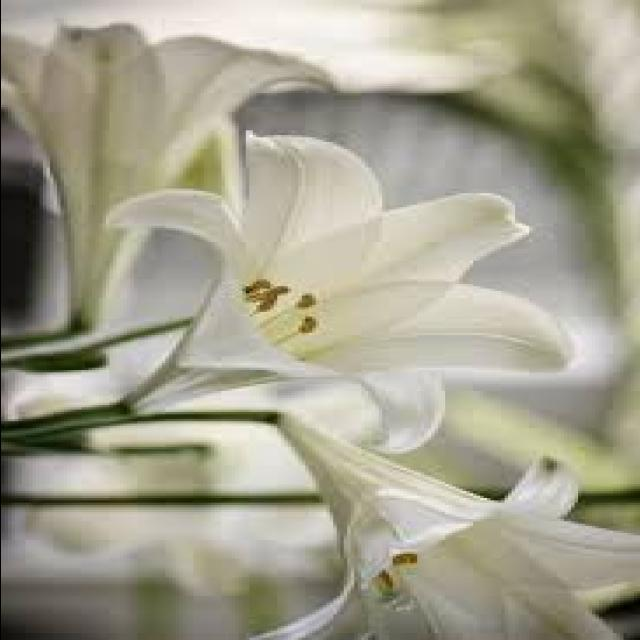lily: (100, 120, 590, 448)
